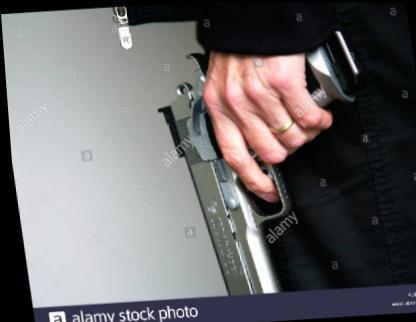pistol: (143, 12, 394, 296)
